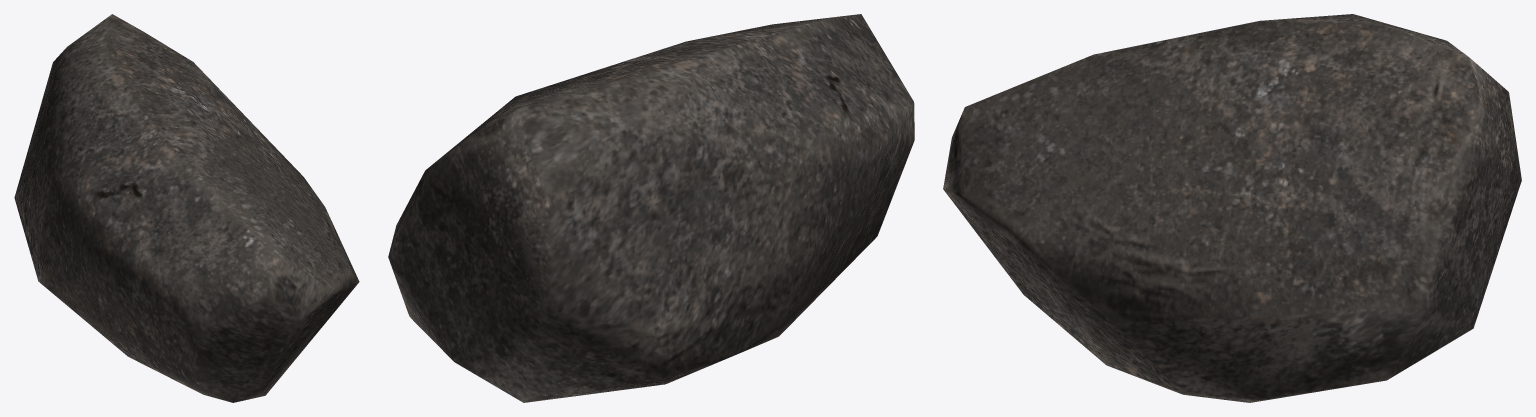
The model's file is SM_SmallRocks_2.fbx.
3 views of the same model, side by side, from view 1: azimuth 30°, elevation 25°; view 2: azimuth 150°, elevation 25°; view 3: azimuth 270°, elevation 25° (orthographic). The views are drawn at different scales.
Visible parts, largest first — view 1: SM_SmallRocks_2_LOD0; view 2: SM_SmallRocks_2_LOD0; view 3: SM_SmallRocks_2_LOD0.
Boxes of the visible parts, bbox=[...] form: SM_SmallRocks_2_LOD0: bbox=[14, 14, 359, 402]; SM_SmallRocks_2_LOD0: bbox=[388, 14, 914, 402]; SM_SmallRocks_2_LOD0: bbox=[943, 14, 1521, 402].
Size of the model in its own units: 18.05 by 27.17 by 16.82.
